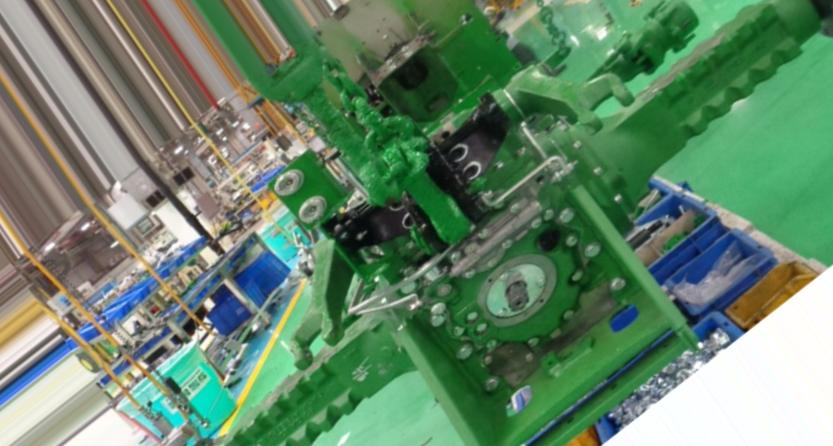engine: (176, 0, 833, 446)
